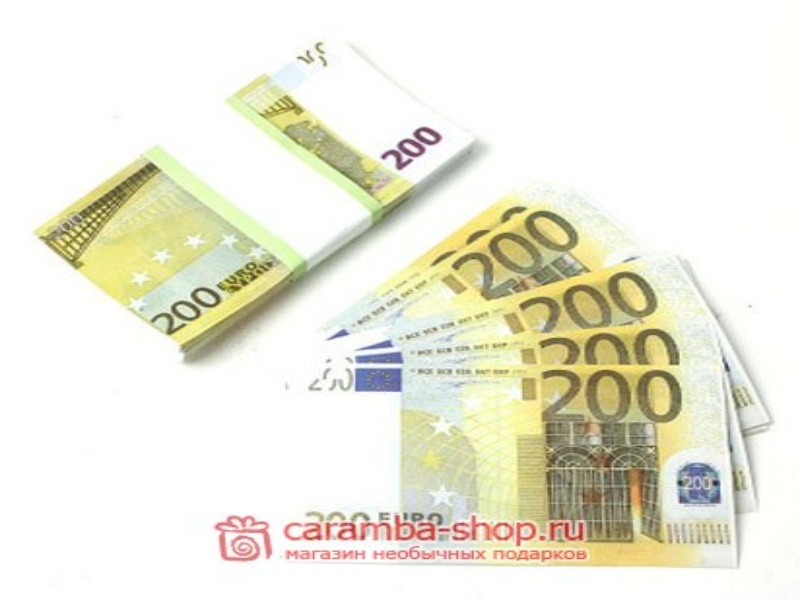cash: (276, 174, 773, 571), (34, 37, 474, 360)
